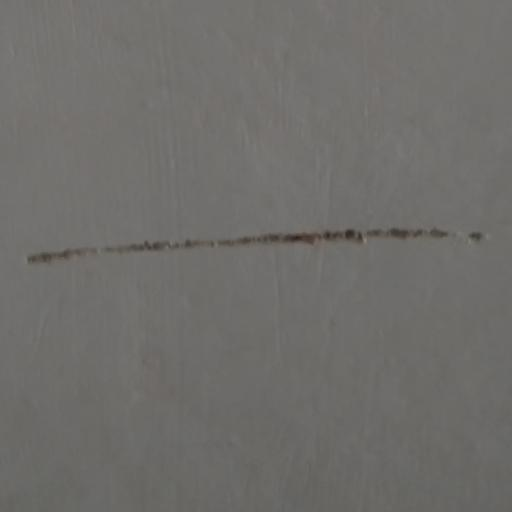stain: (15, 209, 500, 274)
